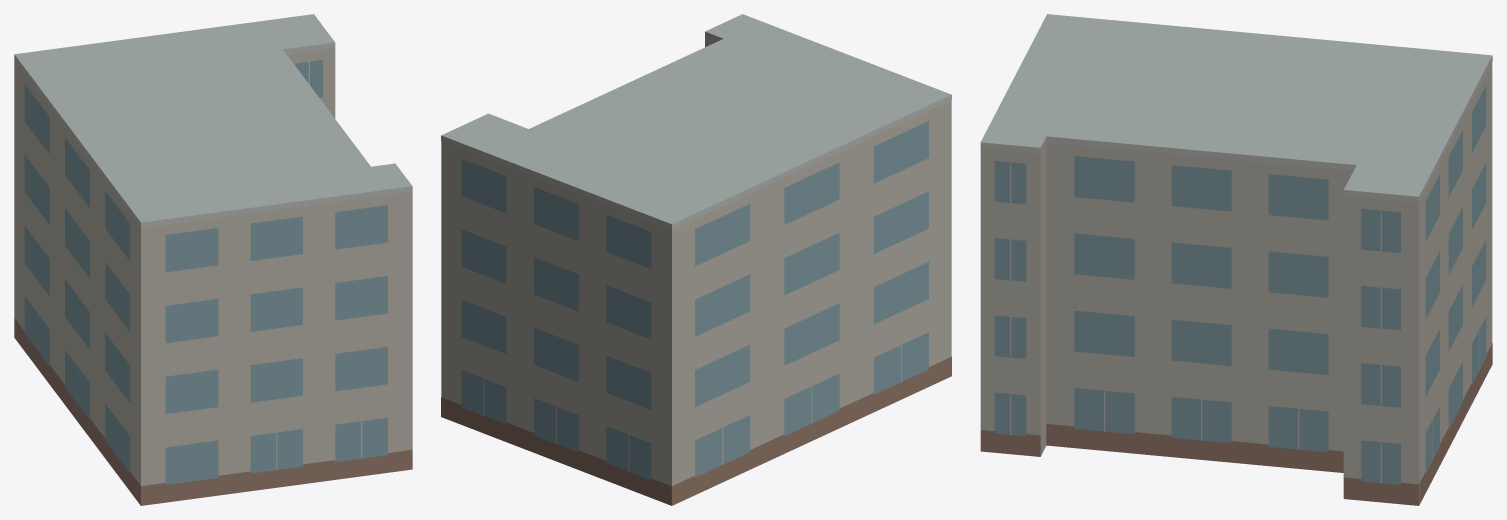
The model's file is residential-3a227f56-b6b4-4260-8e49-4b63f83931ef.glb.
3 views of the same model, side by side, from view 1: azimuth 30°, elevation 25°; view 2: azimuth 150°, elevation 25°; view 3: azimuth 270°, elevation 25° (orthographic). The views are drawn at different scales.
Parts seen in each view (by area): view 1: residential-3a227f56-b6b4-4260-8e49-4b63f83931ef.tmp; view 2: residential-3a227f56-b6b4-4260-8e49-4b63f83931ef.tmp; view 3: residential-3a227f56-b6b4-4260-8e49-4b63f83931ef.tmp.
Boxes of the visible parts, bbox=[...] form: residential-3a227f56-b6b4-4260-8e49-4b63f83931ef.tmp: bbox=[14, 14, 412, 505]; residential-3a227f56-b6b4-4260-8e49-4b63f83931ef.tmp: bbox=[441, 14, 951, 505]; residential-3a227f56-b6b4-4260-8e49-4b63f83931ef.tmp: bbox=[980, 14, 1492, 505].
Size of the model in its own units: 15.48 by 12.2 by 18.32.
